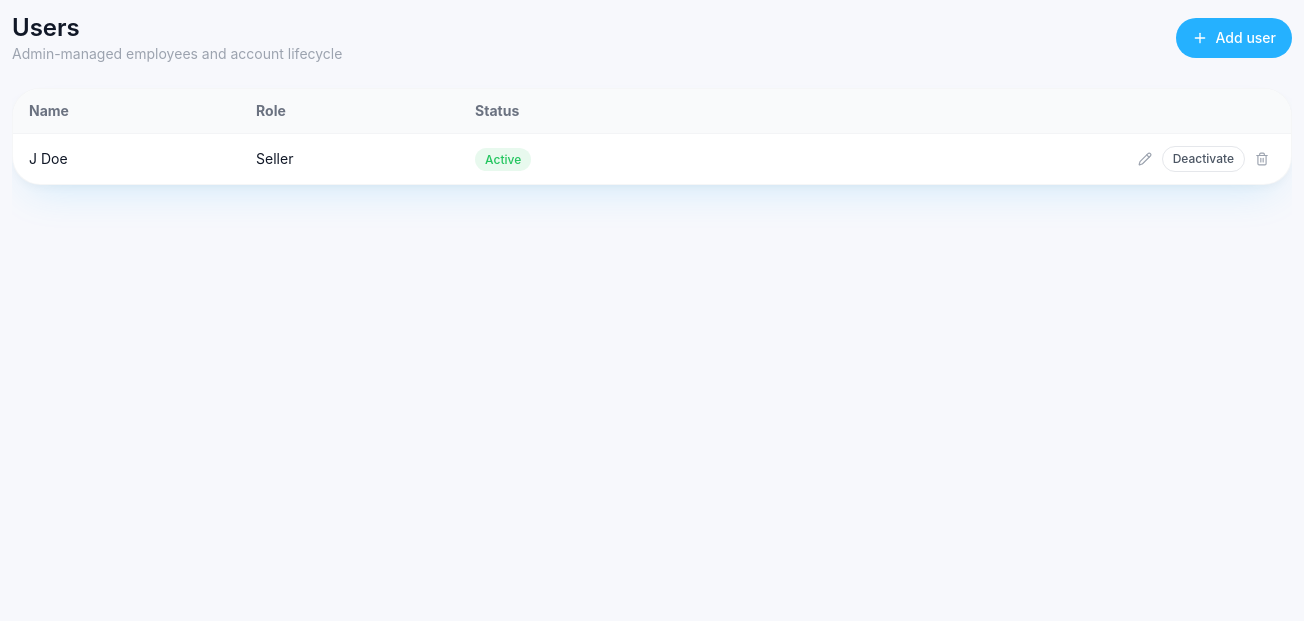
UsersPage › creates a user without a password key in the payload when the password field is left blank
Expected: the text "J Doe" is shown, [13, 134, 240, 184]
Click the button "Add user".
click(1234, 38)  # box [1176, 18, 1292, 58]
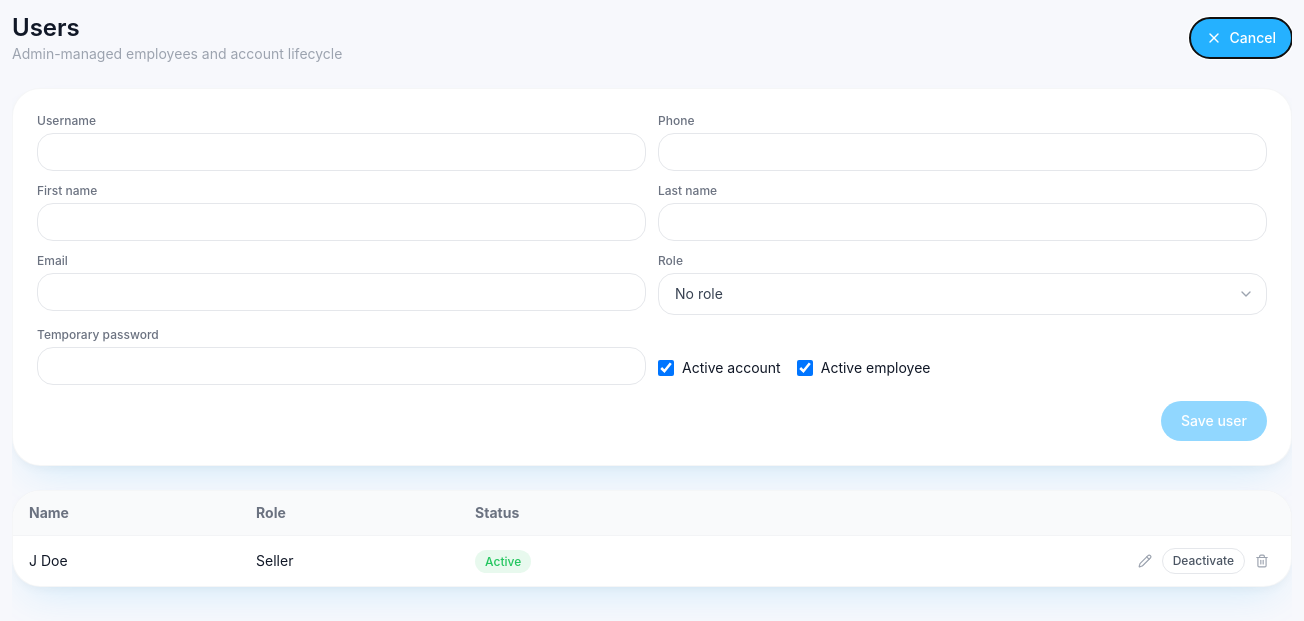
Type "newperson" into the field below "Username".
click(342, 152); type("newperson")  # box [37, 133, 646, 171]
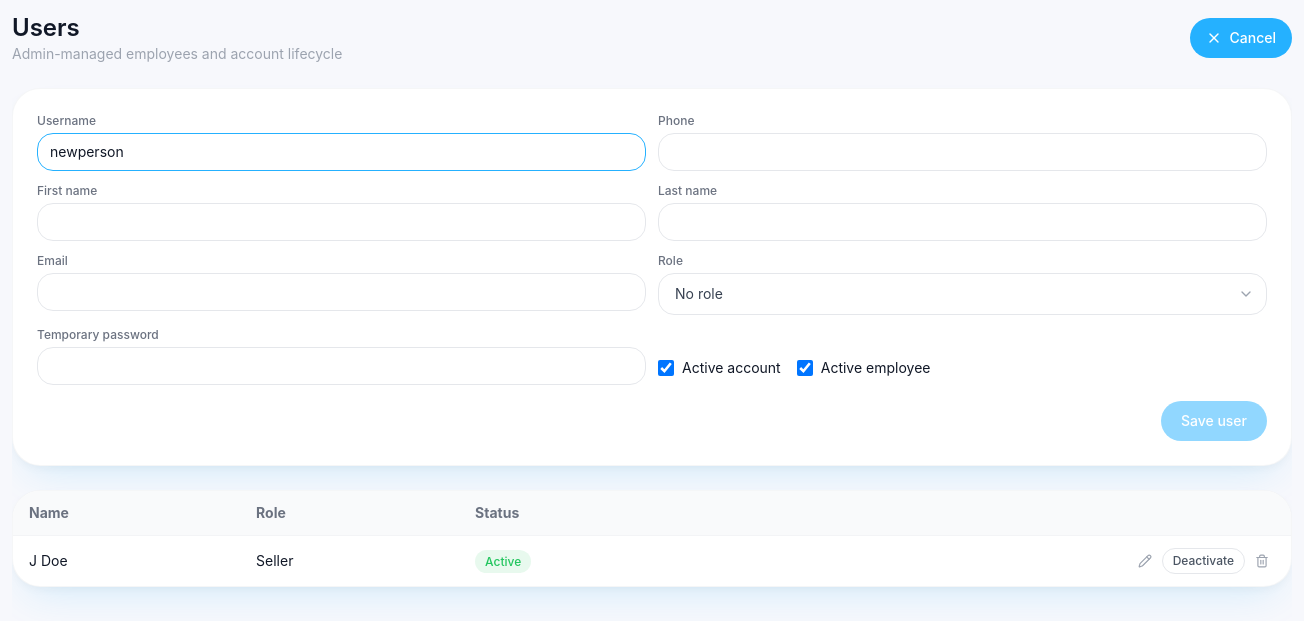
Type "255700000099" into the field below "Phone".
click(962, 152); type("255700000099")  # box [658, 133, 1267, 171]
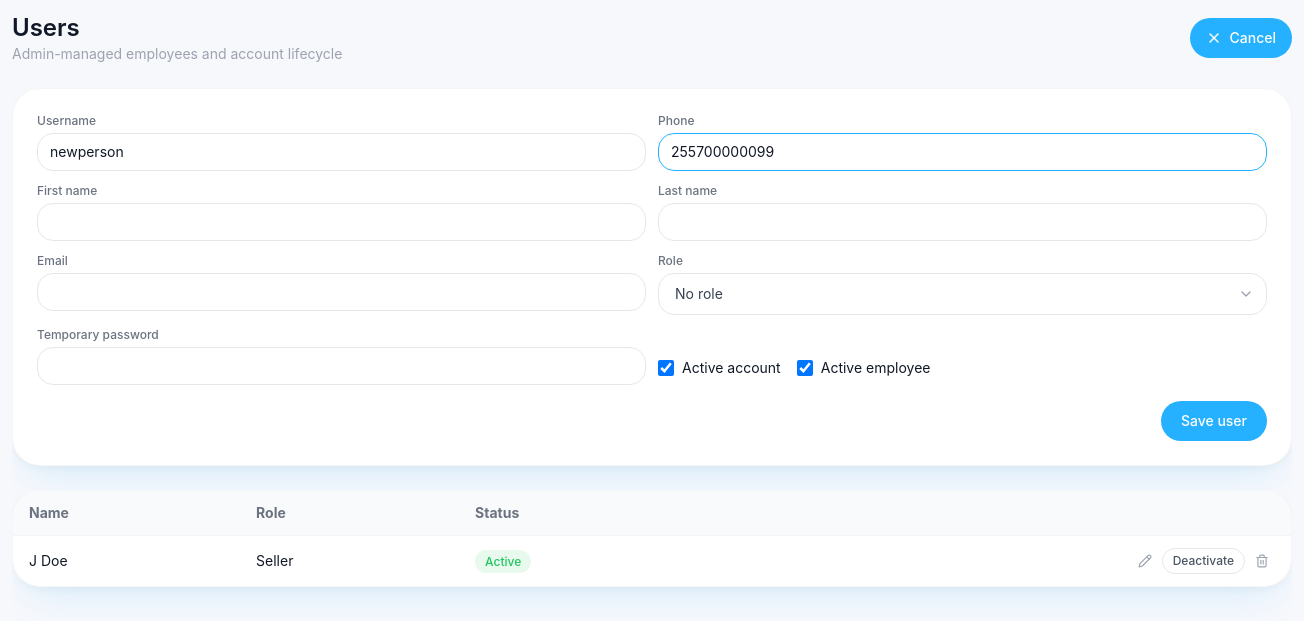
Click the button "Save user".
click(1214, 421)  # box [1161, 401, 1267, 441]
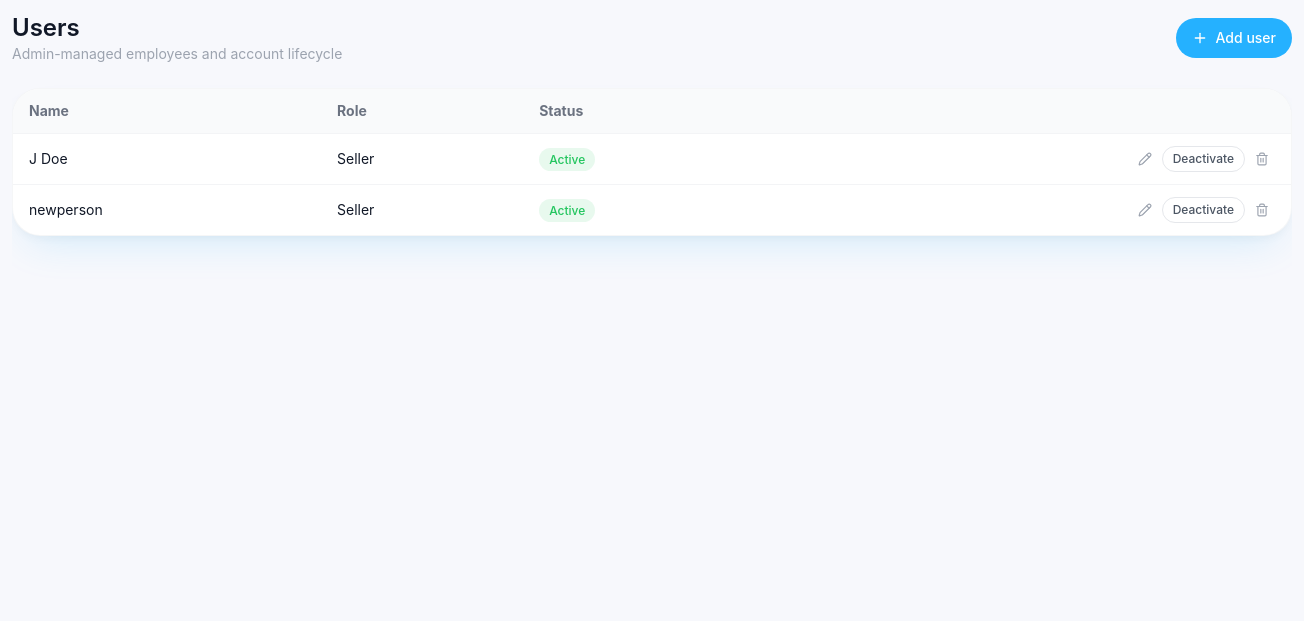
Result: the cell "newperson" is shown at [13, 184, 321, 235]
